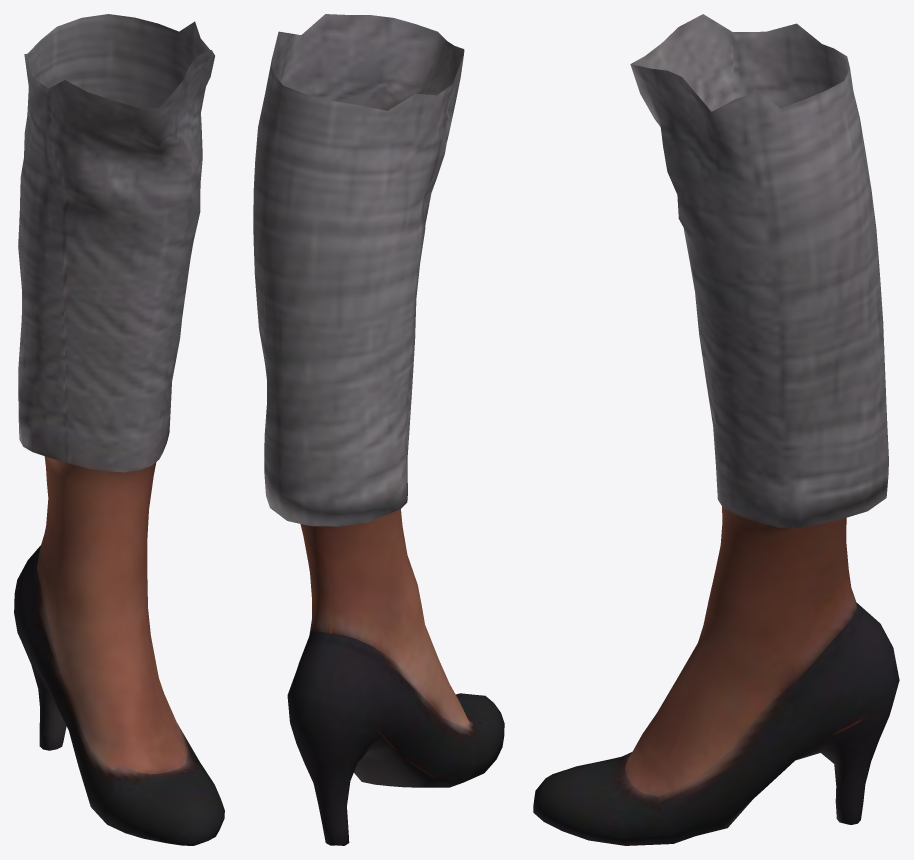
File: ProfesorSubLeftLeg.obj
3 renders of one model, left to right at view 1: azimuth 30°, elevation 25°; view 2: azimuth 150°, elevation 25°; view 3: azimuth 270°, elevation 25°, orthographic. The views are drawn at different scales.
Visible parts, largest first — view 1: ProfesorSubLeftLeg; view 2: ProfesorSubLeftLeg; view 3: ProfesorSubLeftLeg.
Part boxes in pixels (x1=…): ProfesorSubLeftLeg: x1=14, y1=14, x2=224, y2=845; ProfesorSubLeftLeg: x1=253, y1=14, x2=504, y2=845; ProfesorSubLeftLeg: x1=533, y1=14, x2=899, y2=845.
Size of the model in its own units: 12.29 by 52.71 by 22.35.
1 material, 1 textured.
